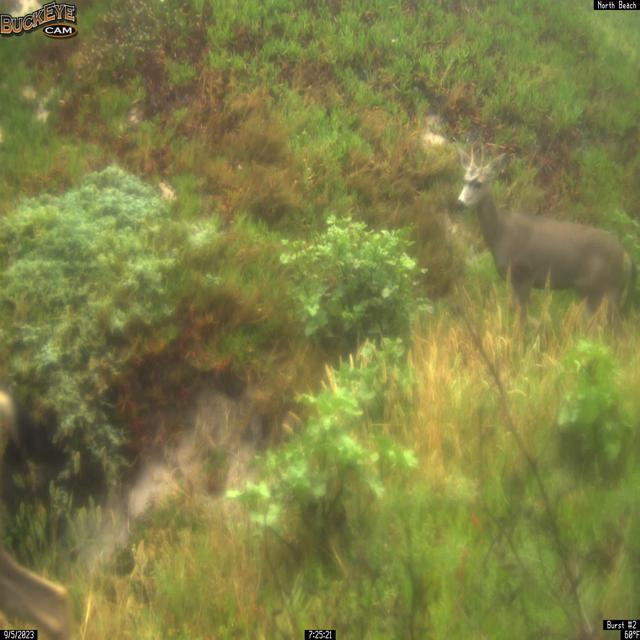deer: (453, 142, 638, 345)
